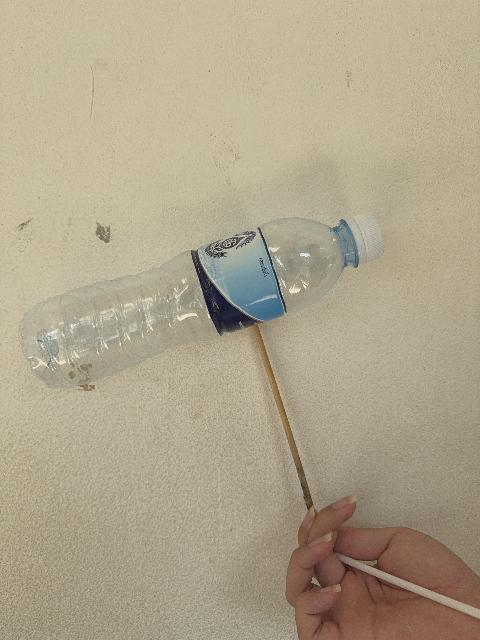bottle: (19, 214, 382, 387)
